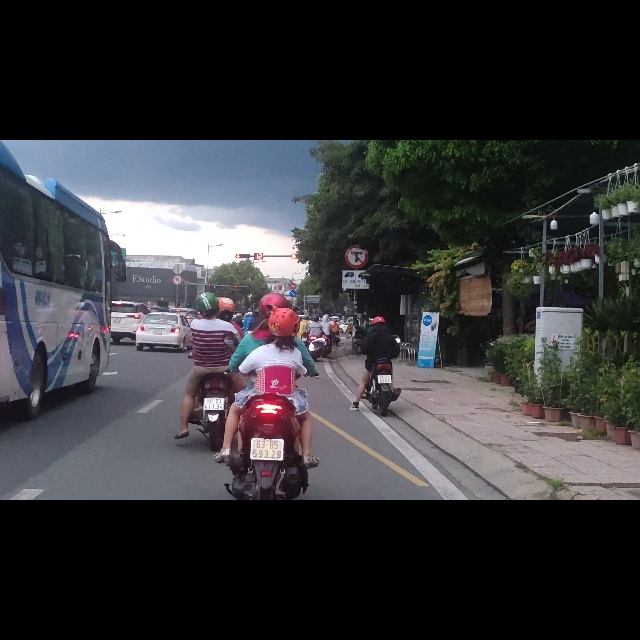bien_cam: (343, 184, 369, 229), (172, 239, 183, 259), (289, 267, 297, 280), (289, 252, 296, 266)
